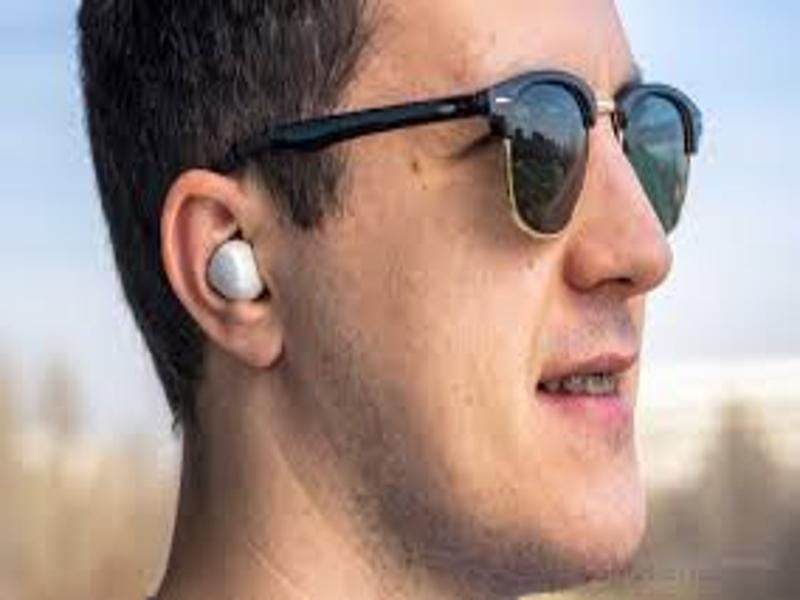headphone: (205, 238, 264, 303)
